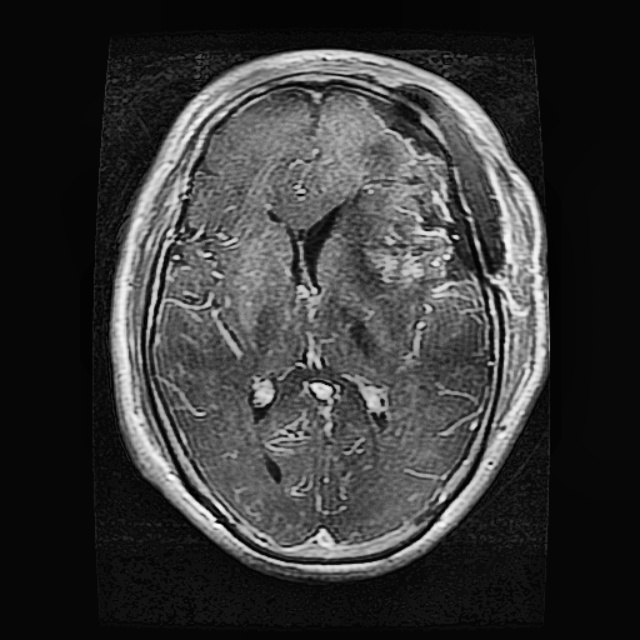Pituitary: (353, 82, 507, 295)
